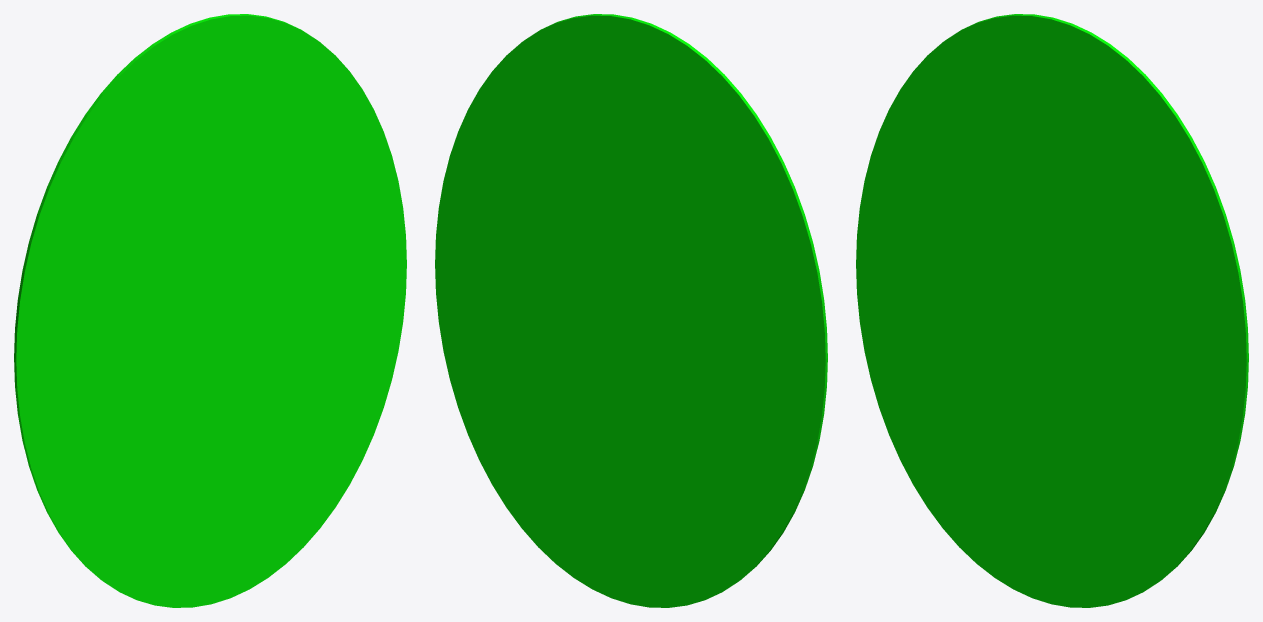
The model's file is Oval.fbx.
The picture shows the model from 3 angles, left to right: view 1: azimuth 30°, elevation 25°; view 2: azimuth 150°, elevation 25°; view 3: azimuth 330°, elevation 25°; orthographic projection.
Visible parts, largest first — view 1: Circle; view 2: Circle; view 3: Circle.
Boxes of the visible parts, x1=… form: Circle: x1=14, y1=14, x2=406, y2=607; Circle: x1=435, y1=14, x2=827, y2=607; Circle: x1=856, y1=14, x2=1248, y2=607.
Bounding box in the file's own units: 200 × 286 × 2.
